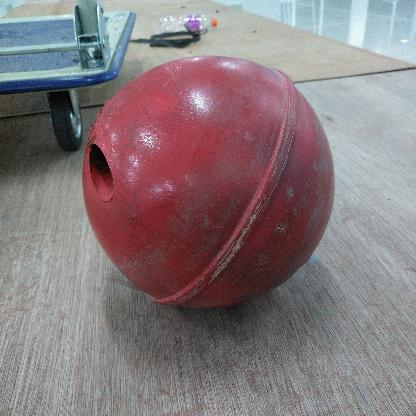red_buoy: (82, 55, 336, 309)
